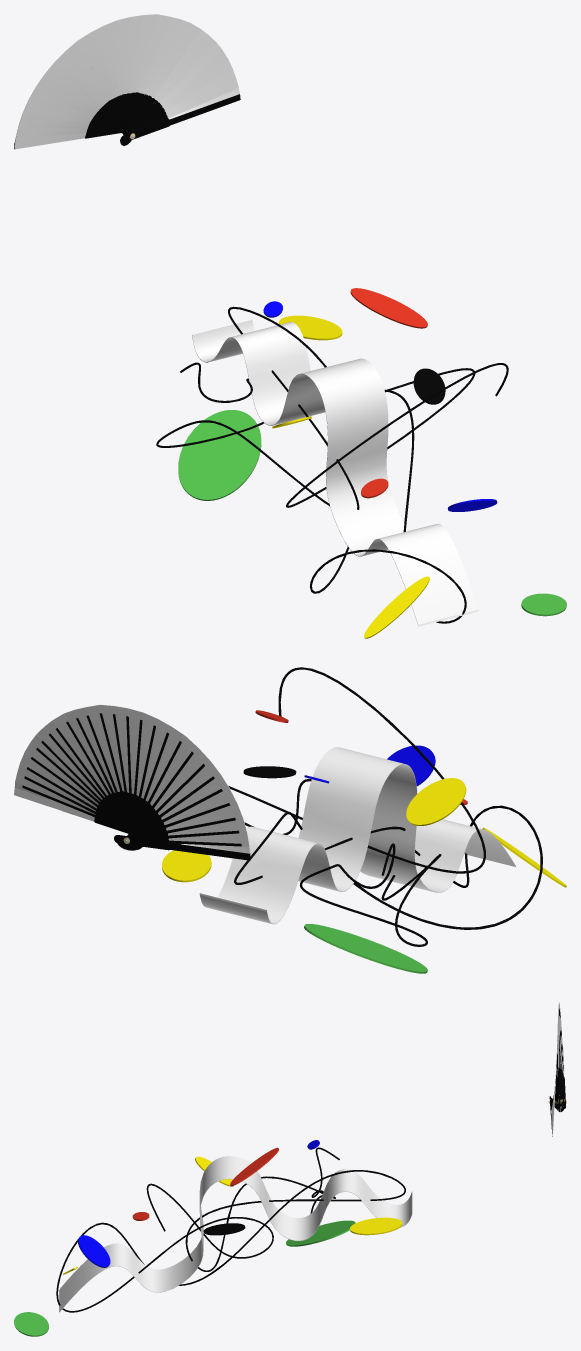
Rendered from gasong_ar.gltf.
3 renders of one model, top to bottom at view 1: azimuth 30°, elevation 25°; view 2: azimuth 150°, elevation 25°; view 3: azimuth 270°, elevation 25°, orthographic. The views are drawn at different scales.
Visible parts, largest first — view 1: Body159, Body164, Body158, Body168, Body166, Body160, Body167, Body1, Body161; view 2: Body159, Body158, Body164, Body165, Body160, Body29, Body163, Body93, Body102, Body92, Body157, Body97 (+19 smaller); view 3: Body159, Body158, Body164, Body160, Body161, Body163, Body168.
Part boxes in pixels (<box>): Body159: <box>192,320,478,626</box>; Body164: <box>178,410,261,500</box>; Body158: <box>156,306,508,623</box>; Body168: <box>350,288,427,328</box>; Body166: <box>364,576,429,638</box>; Body160: <box>279,315,342,340</box>; Body167: <box>413,368,445,404</box>; Body1: <box>120,94,240,142</box>; Body161: <box>521,593,566,616</box>; Body159: <box>199,747,515,924</box>; Body158: <box>228,667,542,946</box>; Body164: <box>304,924,427,973</box>; Body165: <box>406,778,466,825</box>; Body160: <box>162,850,211,882</box>; Body29: <box>114,835,250,860</box>; Body163: <box>387,745,435,786</box>; Body93: <box>154,753,203,810</box>; Body102: <box>89,713,119,791</box>; Body92: <box>150,743,191,805</box>; Body157: <box>14,788,94,821</box>; Body97: <box>166,805,234,830</box>; Body159: <box>59,1156,412,1312</box>; Body158: <box>56,1147,405,1312</box>; Body164: <box>286,1220,355,1246</box>; Body160: <box>350,1217,402,1235</box>; Body161: <box>14,1312,48,1336</box>; Body163: <box>78,1235,110,1267</box>; Body168: <box>230,1147,278,1186</box>.
Bounding box in the file's own units: 0.8768 × 1.21 × 2.02.
